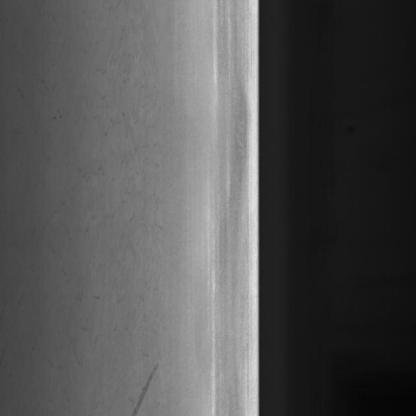silk_spot: (38, 22, 175, 330)
water_spot: (121, 356, 164, 416)
